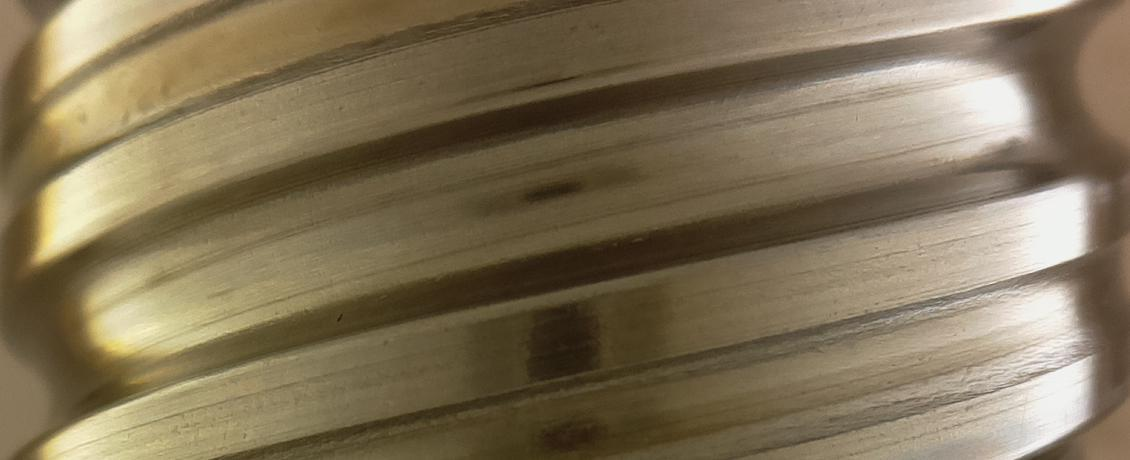pitting: (336, 312, 343, 321)
